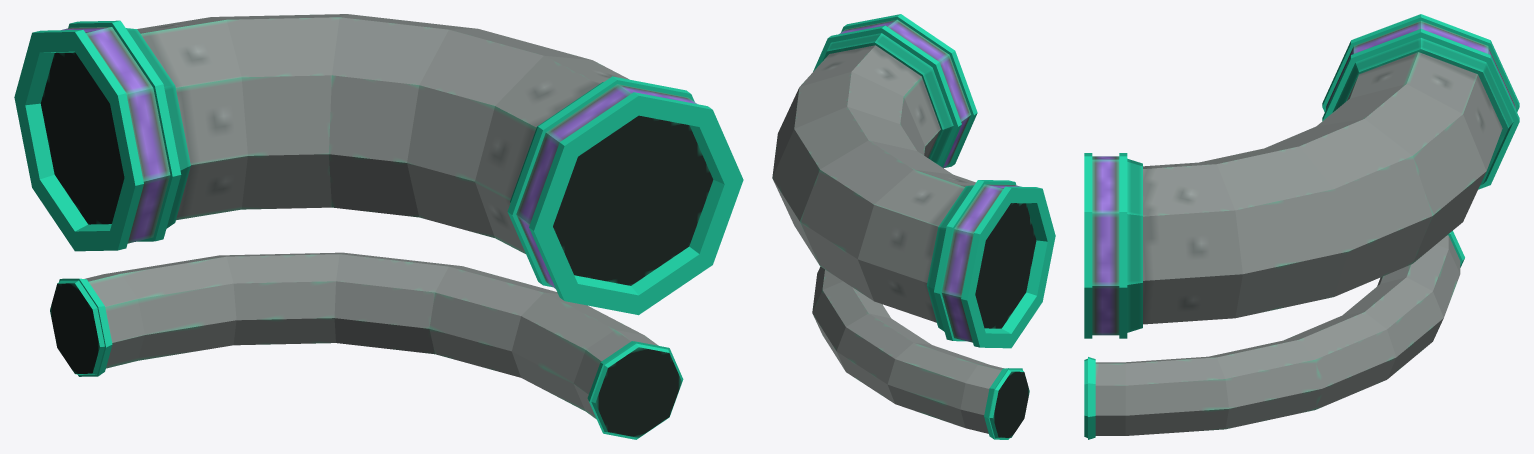
File: pipe_corner.fbx
3 renders of one model, left to right at view 1: azimuth 30°, elevation 25°; view 2: azimuth 150°, elevation 25°; view 3: azimuth 270°, elevation 25°, orthographic. The views are drawn at different scales.
Visible parts, largest first — view 1: Object006; view 2: Object006; view 3: Object006.
Boxes of the visible parts, <box> form: Object006: <box>14,14,743,439</box>; Object006: <box>772,14,1055,439</box>; Object006: <box>1084,14,1519,439</box>.
Size of the model in its own units: 164 by 117 by 164.
Materials: 1 (1 with a texture image).
